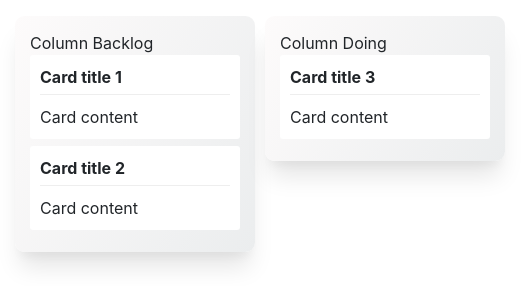
Test case: <Board /> › when the board is uncontrolled › about the column renaming › when the component receives a custom header column template › when the "renameColumn" callback is called › renames the column
Click the button "Column Backlog" at (92, 43), box x1=30 y1=33 x2=153 y2=53
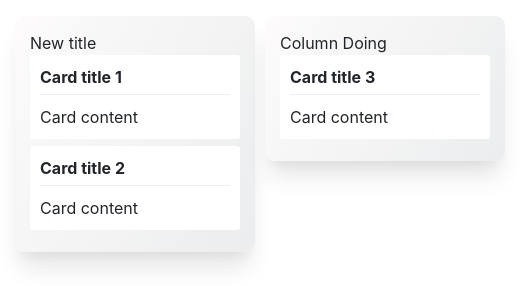
Expected: the element with test id "column-1" shows "New title", x1=30 y1=33 x2=96 y2=53
